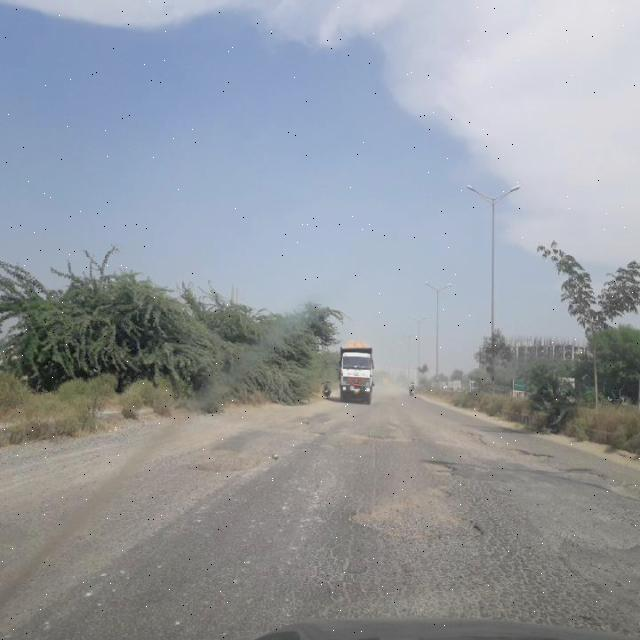D00: (362, 433, 383, 508)
D20: (308, 484, 639, 614)
D40: (526, 470, 639, 551), (342, 496, 487, 544), (150, 442, 276, 492), (446, 421, 550, 463), (254, 414, 332, 440), (341, 427, 418, 452), (417, 456, 458, 478)
